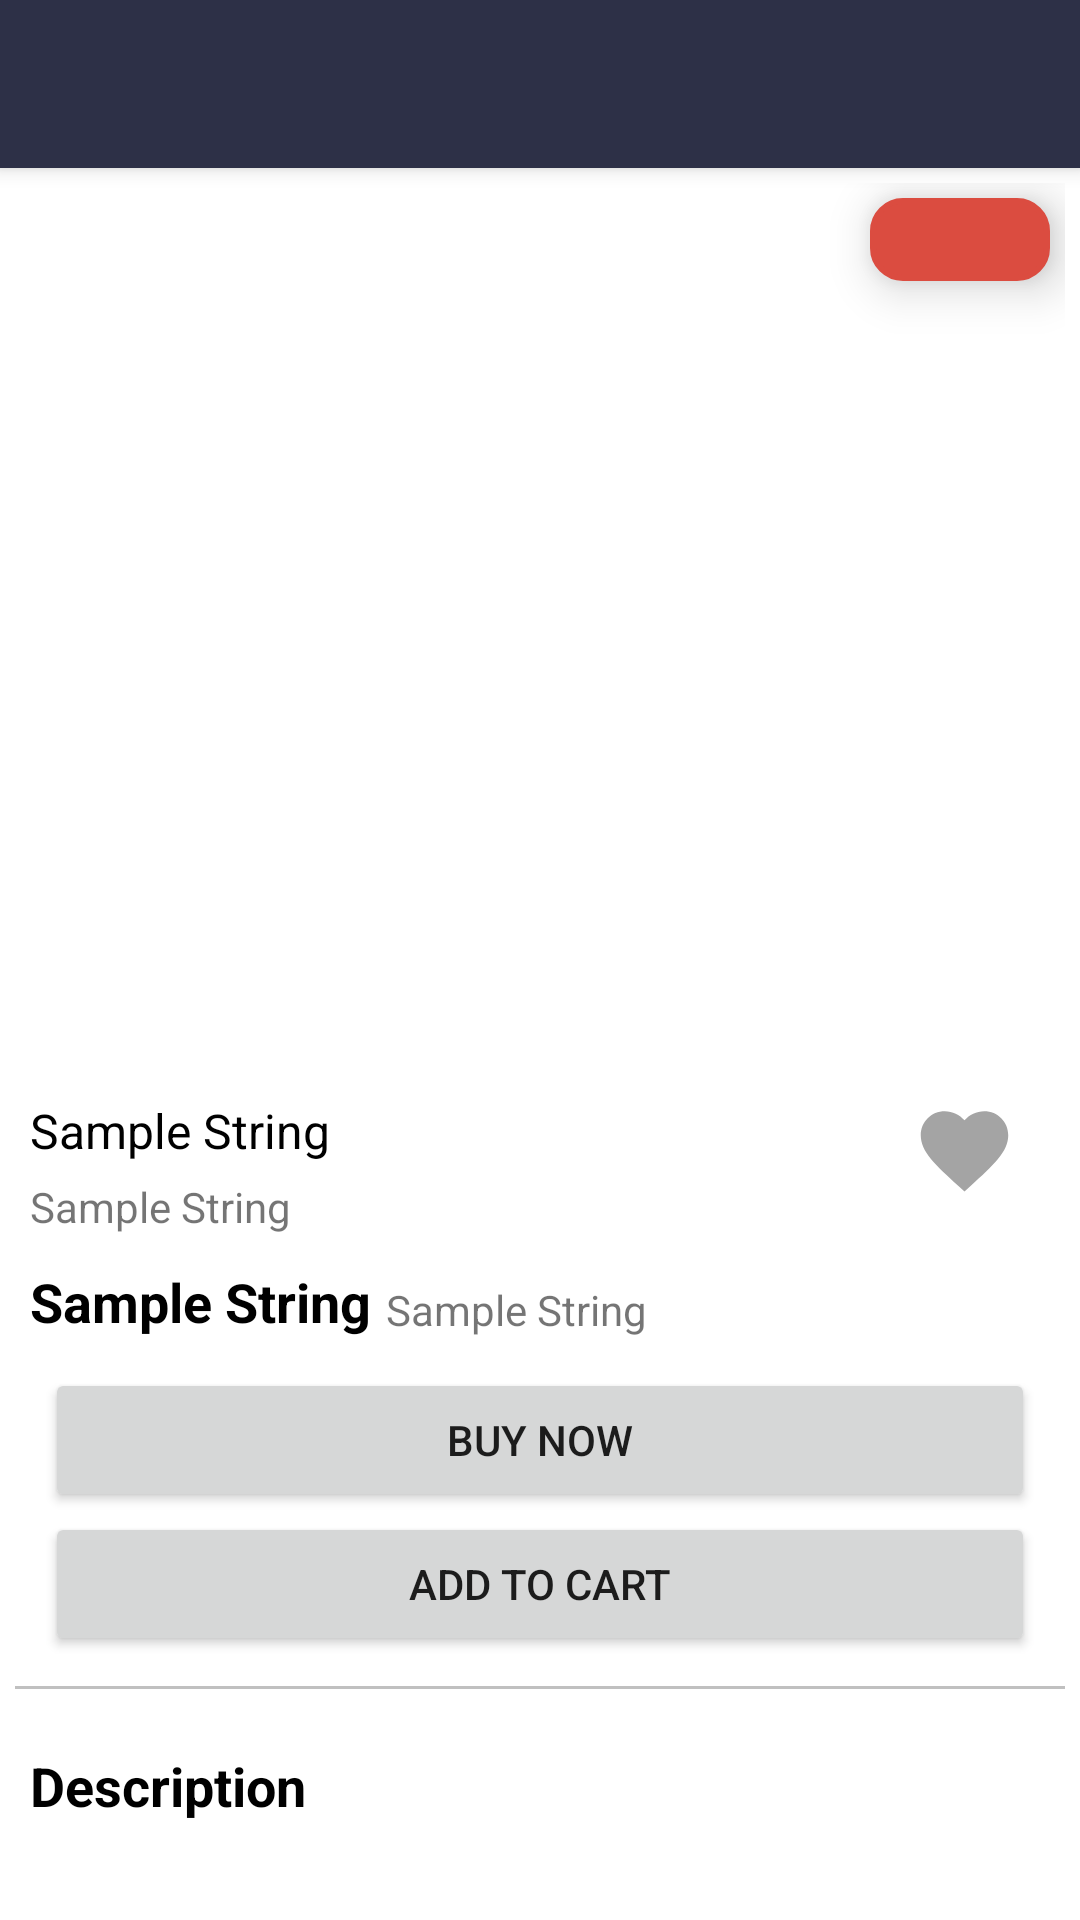

Point at icon controls on the screen. Image size 1080px×1920px, points as (x,y).
Wishlist: (964,1151)
